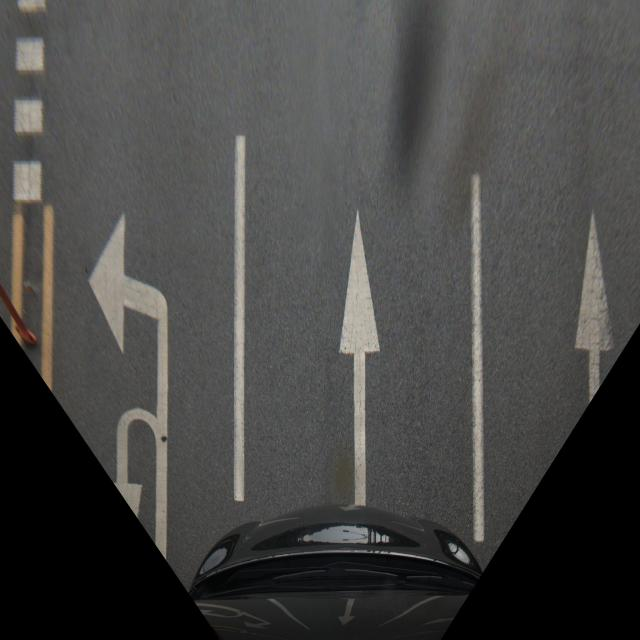forward: (228, 123, 496, 536)
